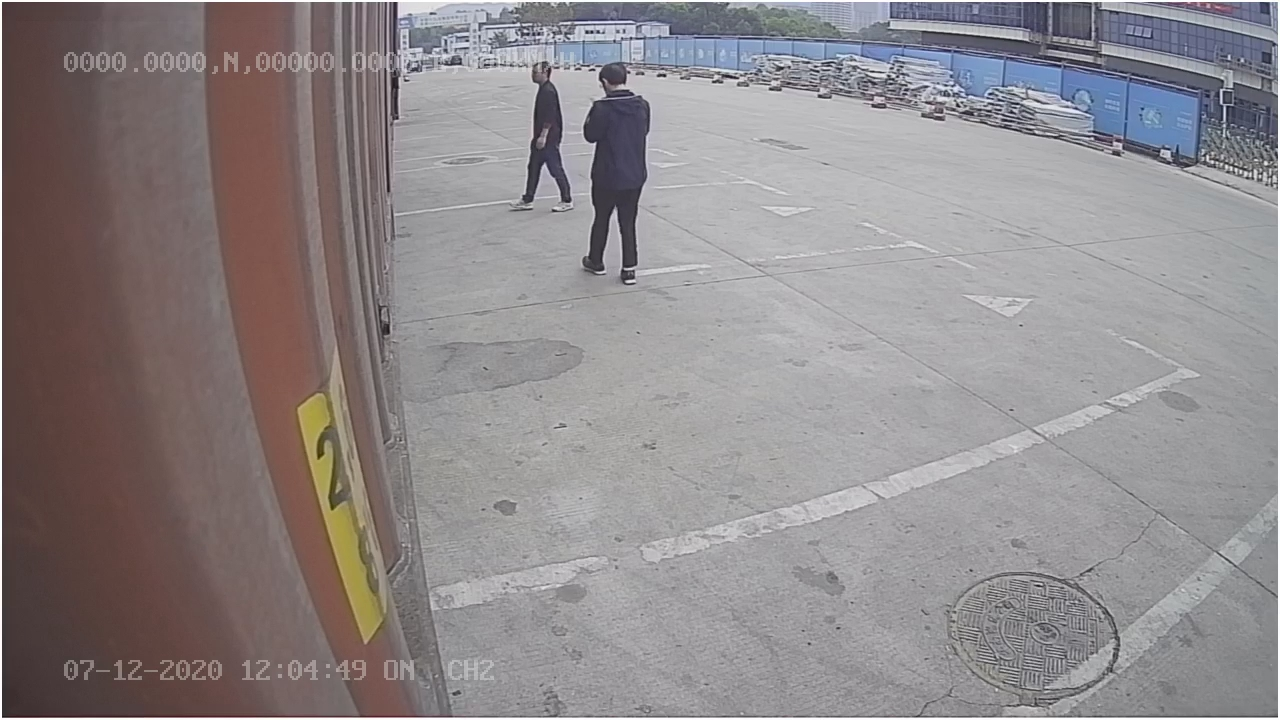person: (577, 55, 654, 284)
